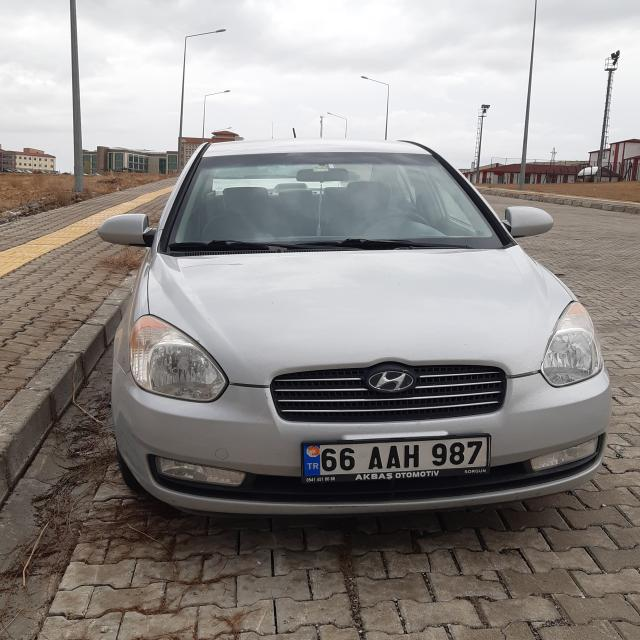license_plate: (302, 436, 489, 476)
